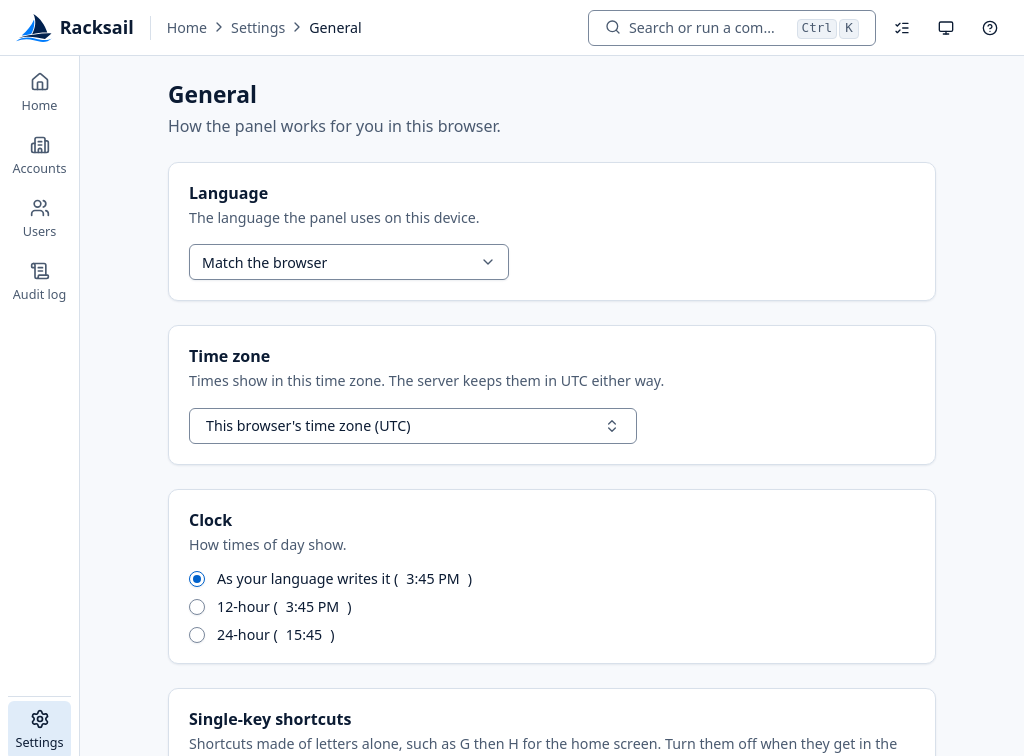
pseudo-locales › can be chosen in the general settings and are remembered
Expected: the heading "General" is shown, [168,79,257,110]
Click the dropdown named "Language". click: [265, 262]
box: [189,244,509,280]
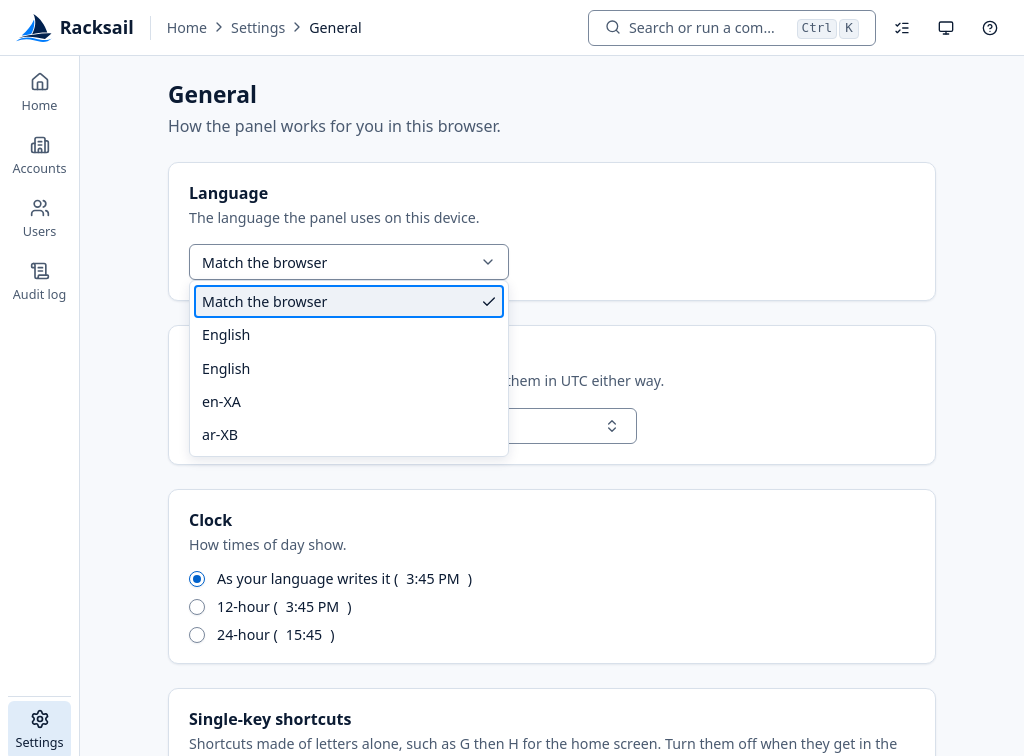
Click the option "en-XA". click: [221, 402]
box: [202,392,241,411]
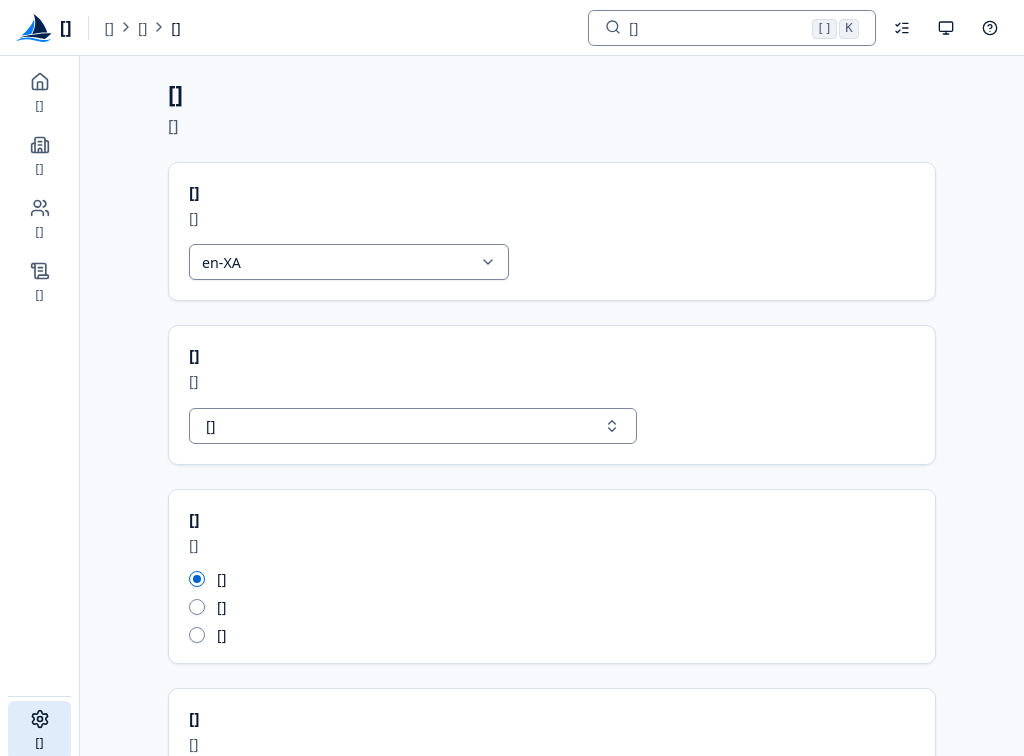
Expected: the text "en-XA" is shown, [202,252,241,273]
Expected: the 1st heading "[]" is shown, [168,79,183,110]
